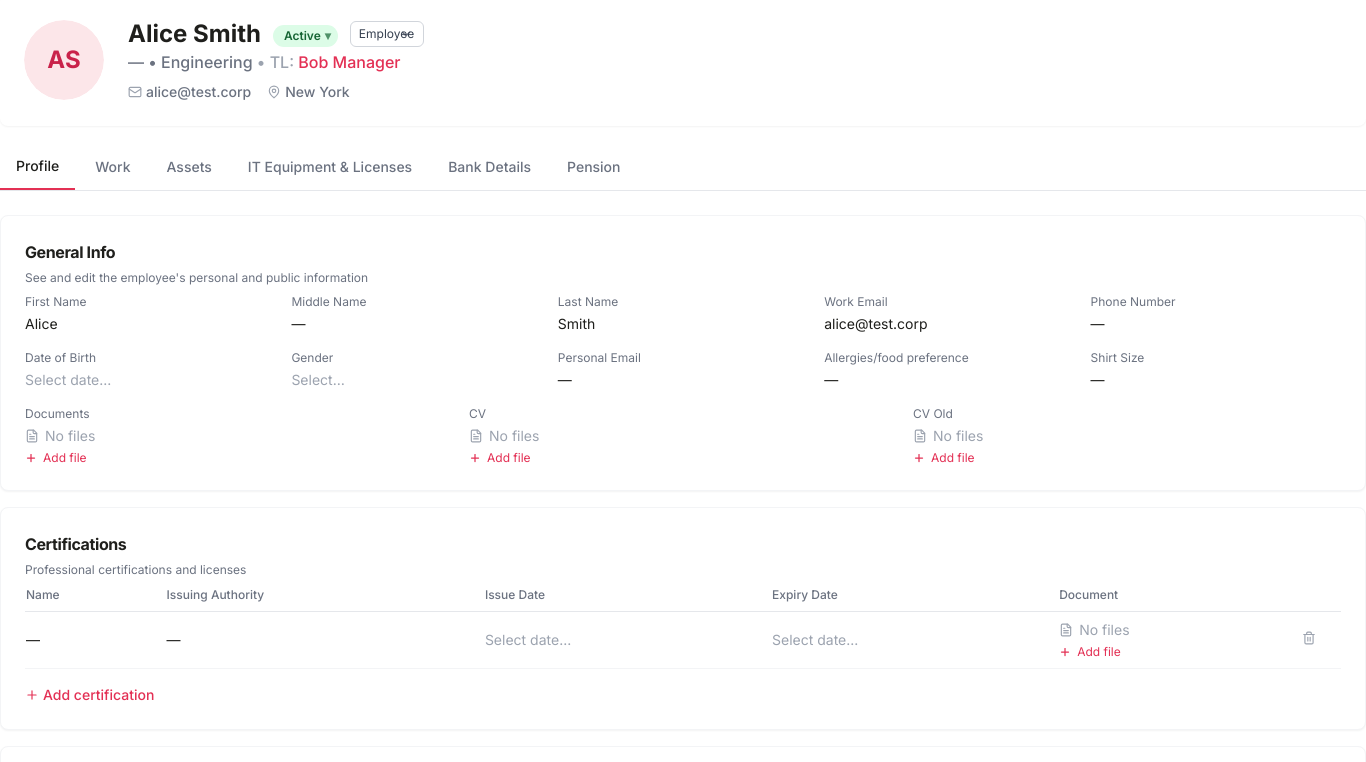
Test case: Employee profile page › R1: shows pen icon next to contract documents in Compensation History for admin
What coordinates should you click on to do the following:
click the tab "Work"
I would click on:
 (113, 170)
Its box is [79,151,146,189].
(page scrolled)
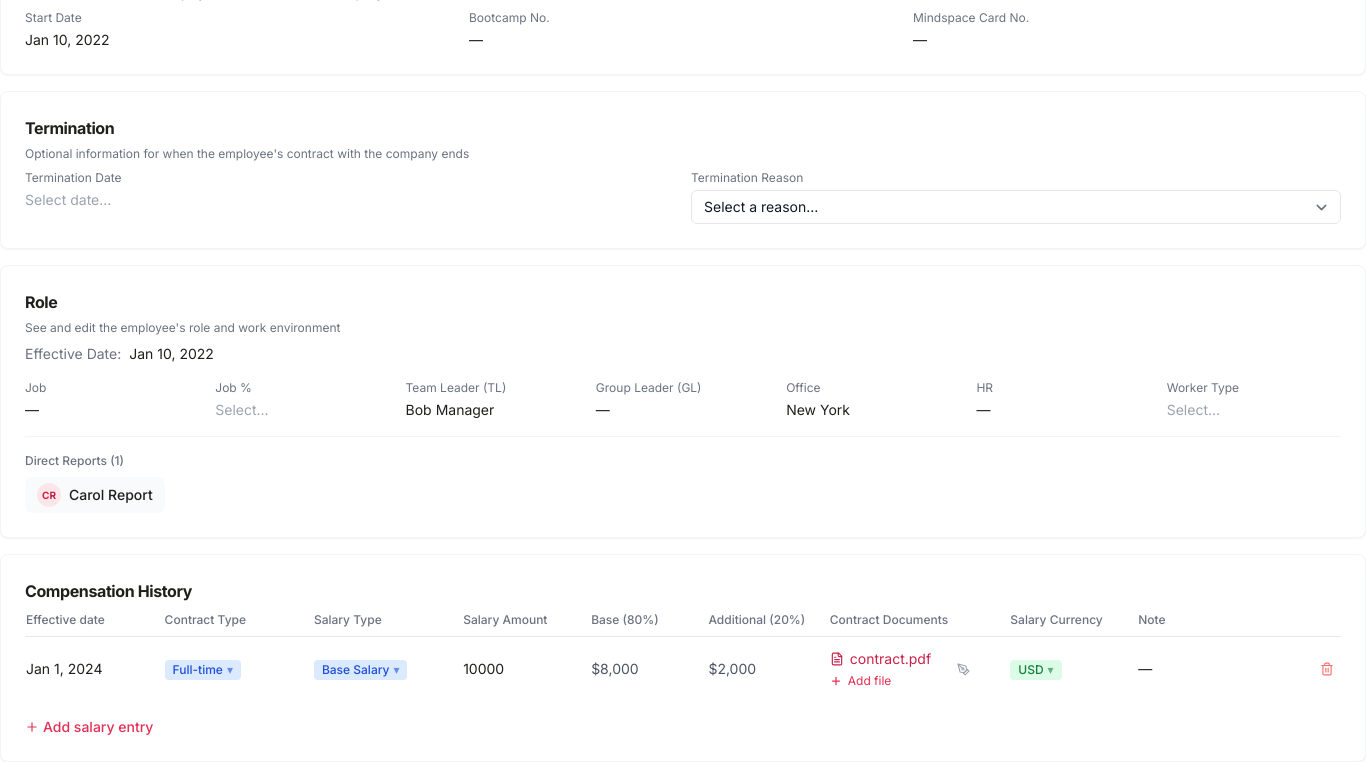
Expected: the button titled "Send for signature" is shown, [953,658,974,680]
